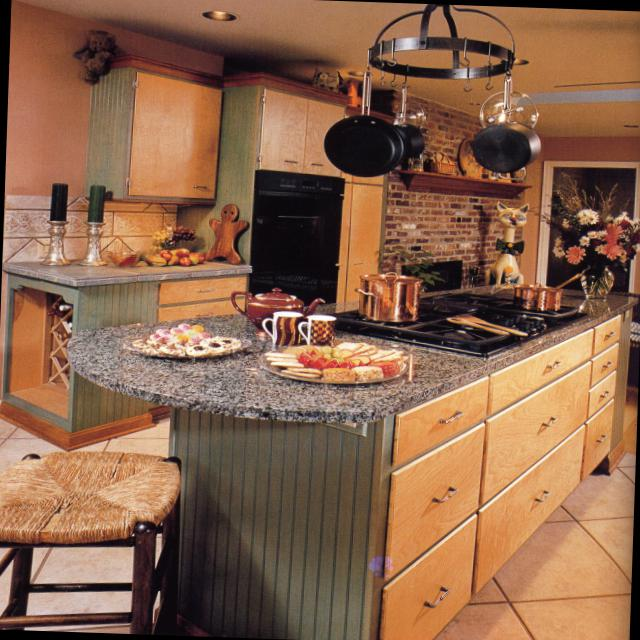drawer handle: (380, 318, 619, 640)
oven cloth: (255, 171, 344, 270)
pot hanger: (358, 275, 417, 320)
stool crop: (0, 455, 176, 627)
stove burner: (315, 290, 583, 355)
table top: (69, 282, 634, 422)
